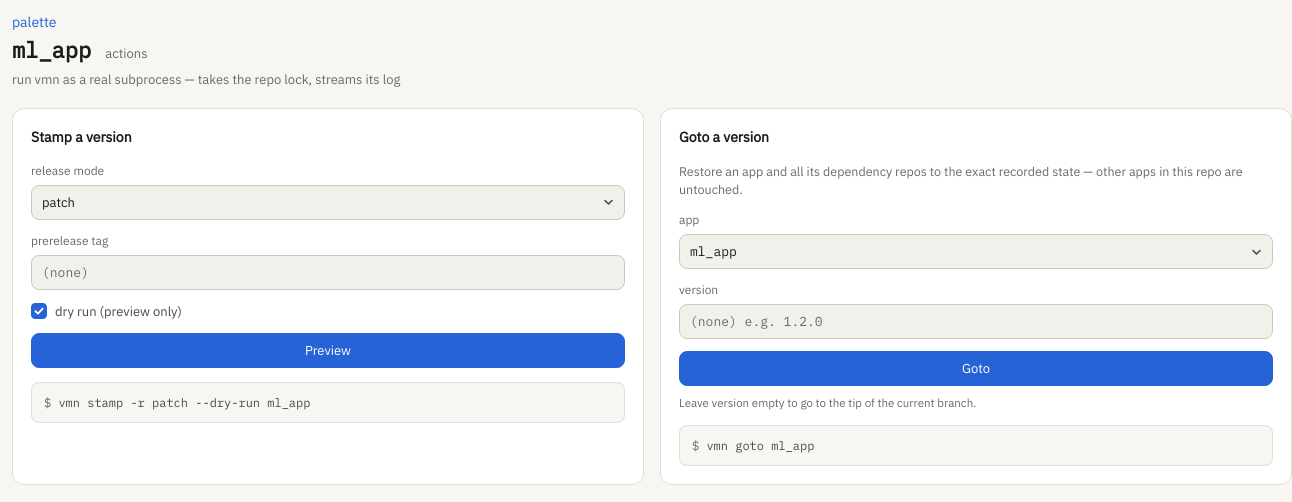
Test: Actions ?goto= prefill › refills when ?goto= changes while the page stays mounted (⌘K on Actions)
This screenshot has width=1292, height=502.
Click the link "palette".
click(34, 22)  # box [12,13,56,31]
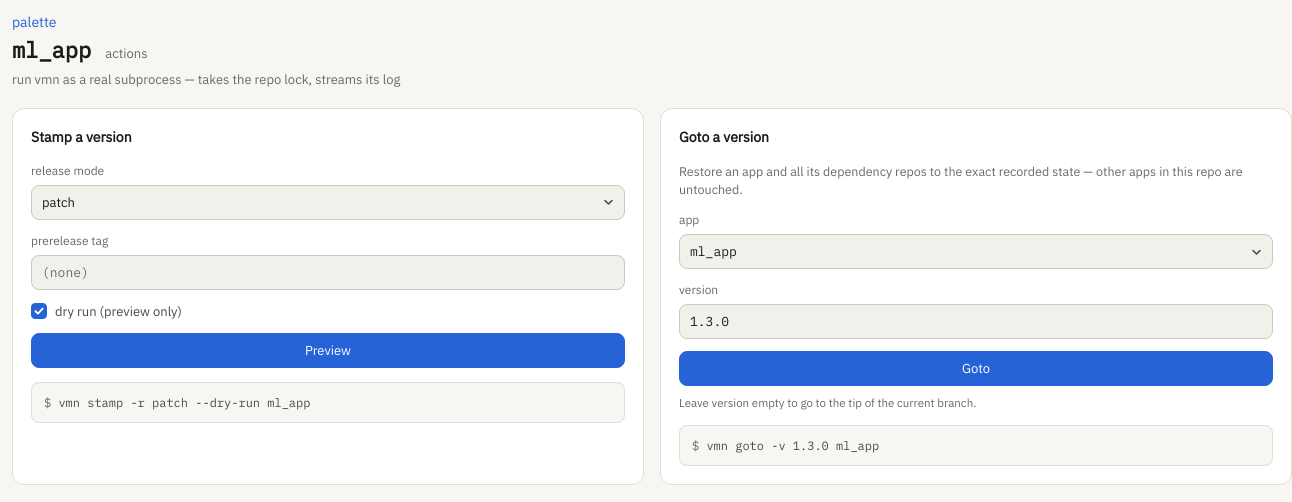
expect the field showing "1.3.0" is shown: met, box [679,304,1273,339]
